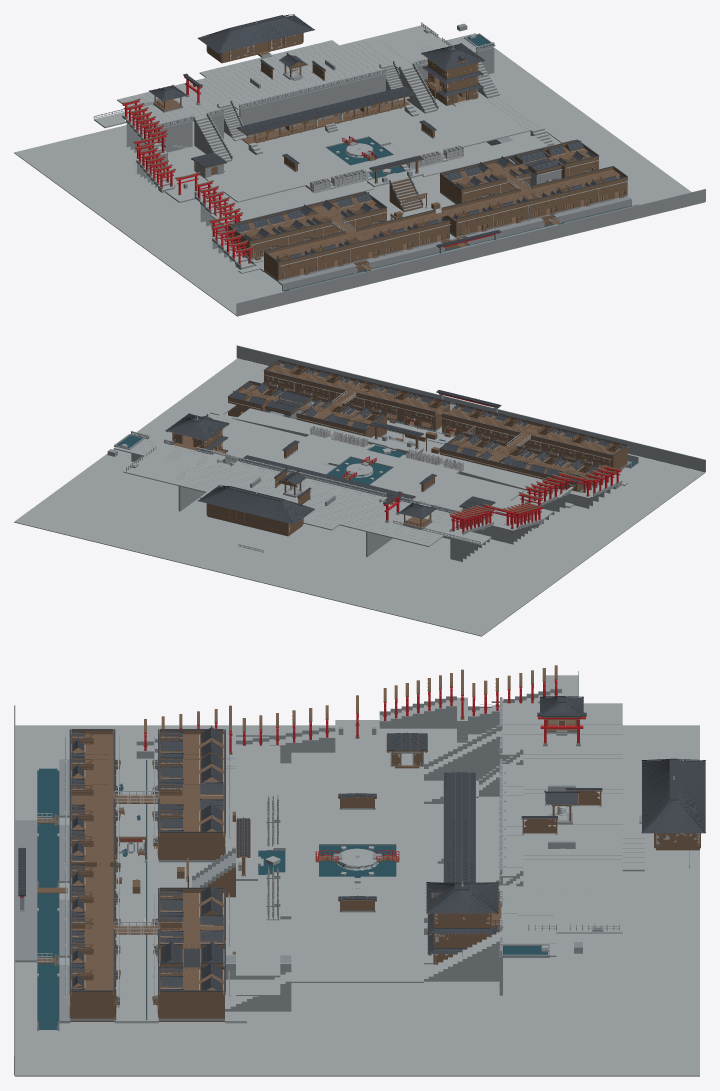
The model's file is katana-low.glb.
The picture shows the model from 3 angles, top to bottom: view 1: azimuth 30°, elevation 25°; view 2: azimuth 150°, elevation 25°; view 3: azimuth 270°, elevation 25°; orthographic projection. The views are drawn at different scales.
Visible parts, largest first — view 1: terrain, garden, town, shrine; view 2: terrain, garden, town, shrine; view 3: terrain, town, garden, shrine.
Part boxes in pixels (x1,y1,x2,y2): terrain: [14, 23, 705, 316]; garden: [93, 86, 573, 273]; town: [227, 139, 638, 291]; shrine: [117, 14, 553, 161]; terrain: [14, 345, 705, 636]; garden: [210, 402, 628, 561]; town: [228, 359, 638, 507]; shrine: [107, 413, 466, 557]; terrain: [14, 705, 699, 1076]; town: [15, 725, 246, 1030]; garden: [37, 665, 689, 995]; shrine: [225, 696, 705, 1011].
Size of the model in its own units: 150 by 25.25 by 125.
